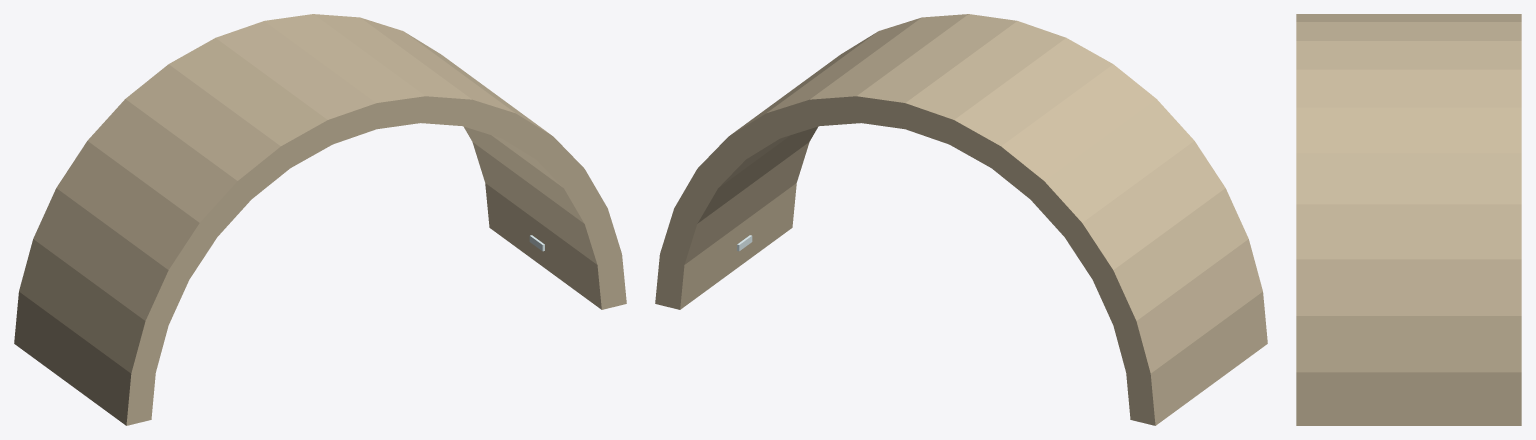
Rendered from TunnelArch.fbx.
3 renders of one model, left to right at view 1: azimuth 30°, elevation 25°; view 2: azimuth 150°, elevation 25°; view 3: azimuth 270°, elevation 25°, orthographic.
Parts seen in each view (by area): view 1: StoneVault; view 2: StoneVault; view 3: StoneVault.
Part boxes in pixels (left/top/right/bottom): StoneVault: left=14, top=14, right=626, bottom=425; StoneVault: left=655, top=14, right=1267, bottom=425; StoneVault: left=1296, top=14, right=1521, bottom=425.
Size of the model in its own units: 18 by 9 by 7.
